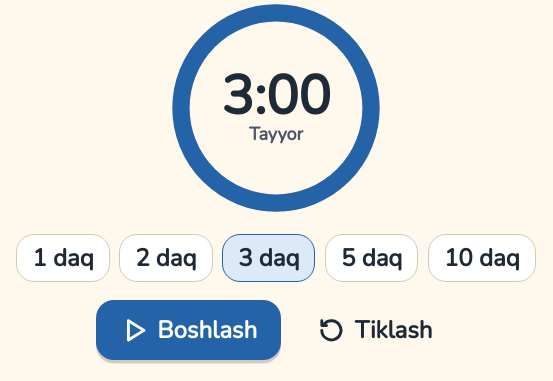
Test: taymer › 1 daqiqa sanaydi va tugaydi
Click the button "1 daq". click: (63,258)
box: [16,234,110,282]
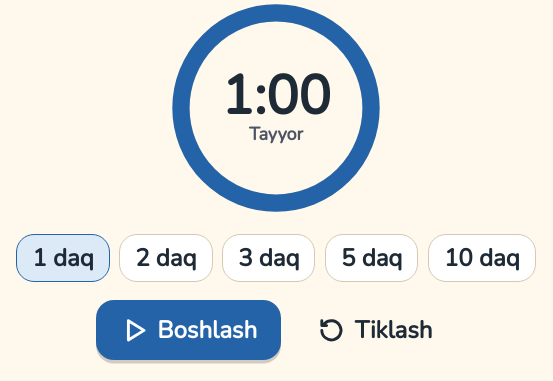
Result: the text with test id "timer-left" reads "1:00" at [221,59,331,133]
Click the button "Boshlash". click: (188,330)
box: [96,300,281,360]
Wait 30000 ms
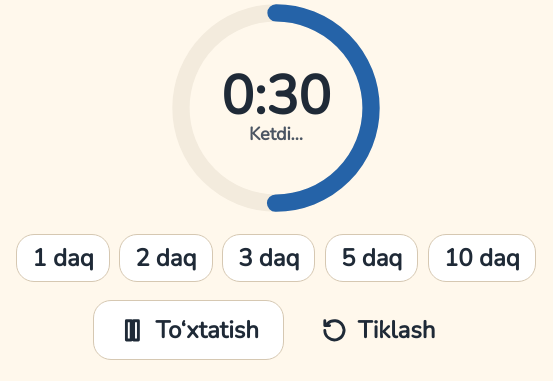
Result: the text with test id "timer-left" reads "0:30" at [221,59,331,133]
Click the button "To‘xtatish". click: (188,330)
box: [93,300,284,360]
Wait 10000 ms
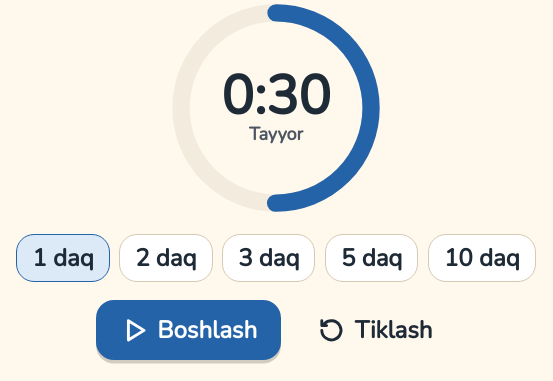
Result: the text with test id "timer-left" reads "0:30" at [221,59,331,133]
Click the button "Boshlash". click: (188,330)
box: [96,300,281,360]
Wait 31000 ms
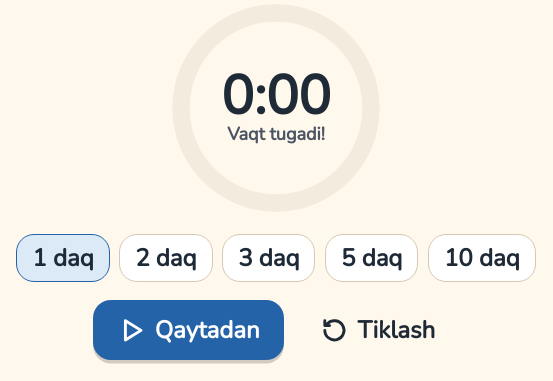
Result: the text "Vaqt tugadi!" is shown at [227,123,325,147]
